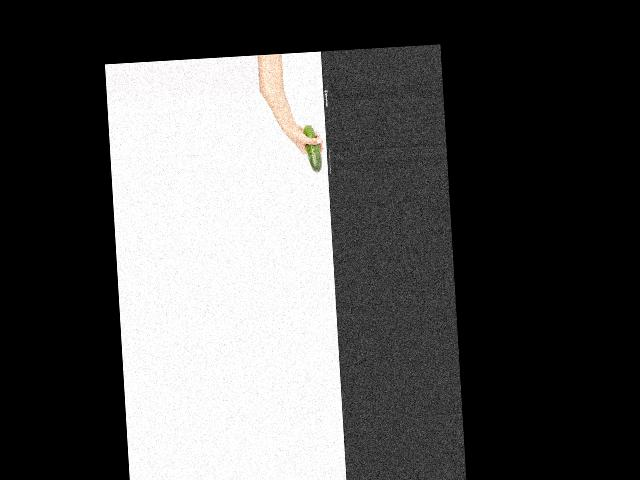cucumber: (303, 125, 323, 173)
